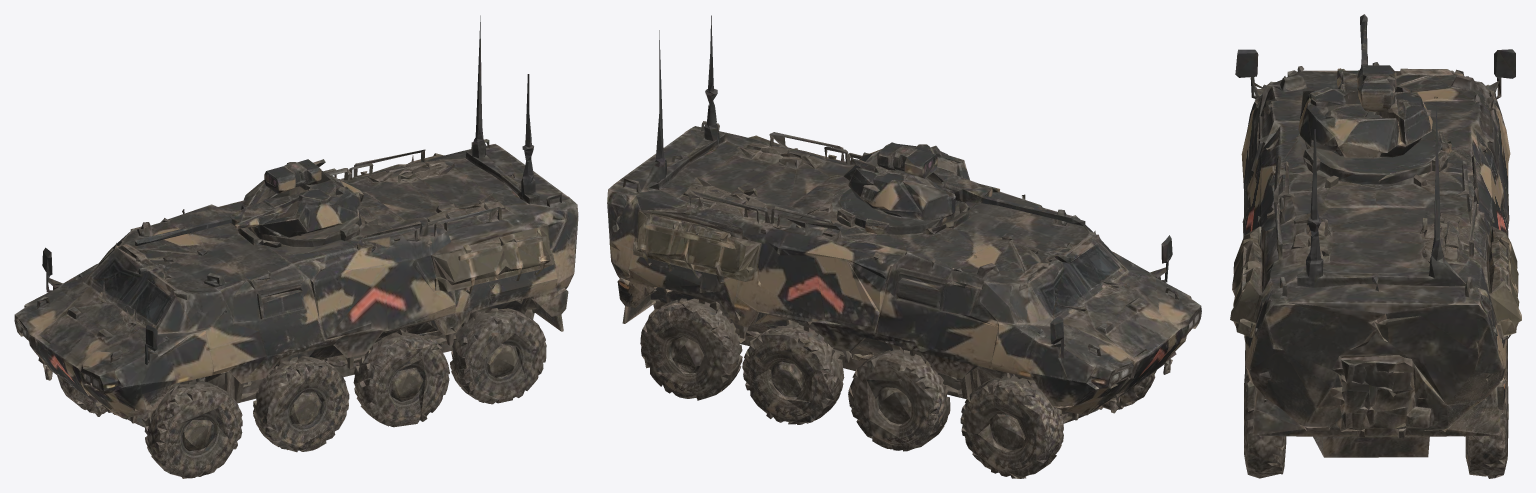
File: enemy_apc.glb
3 renders of one model, left to right at view 1: azimuth 30°, elevation 25°; view 2: azimuth 150°, elevation 25°; view 3: azimuth 270°, elevation 25°, orthographic. The views are drawn at different scales.
Visible parts, largest first — view 1: Mesh_0; view 2: Mesh_0; view 3: Mesh_0.
Boxes of the visible parts, <box> form: Mesh_0: <box>14,15,578,478</box>; Mesh_0: <box>607,15,1201,478</box>; Mesh_0: <box>1230,14,1521,478</box>.
Bounding box in the file's own units: 1.9 × 1.21 × 0.7966.
1 material, 1 textured.
